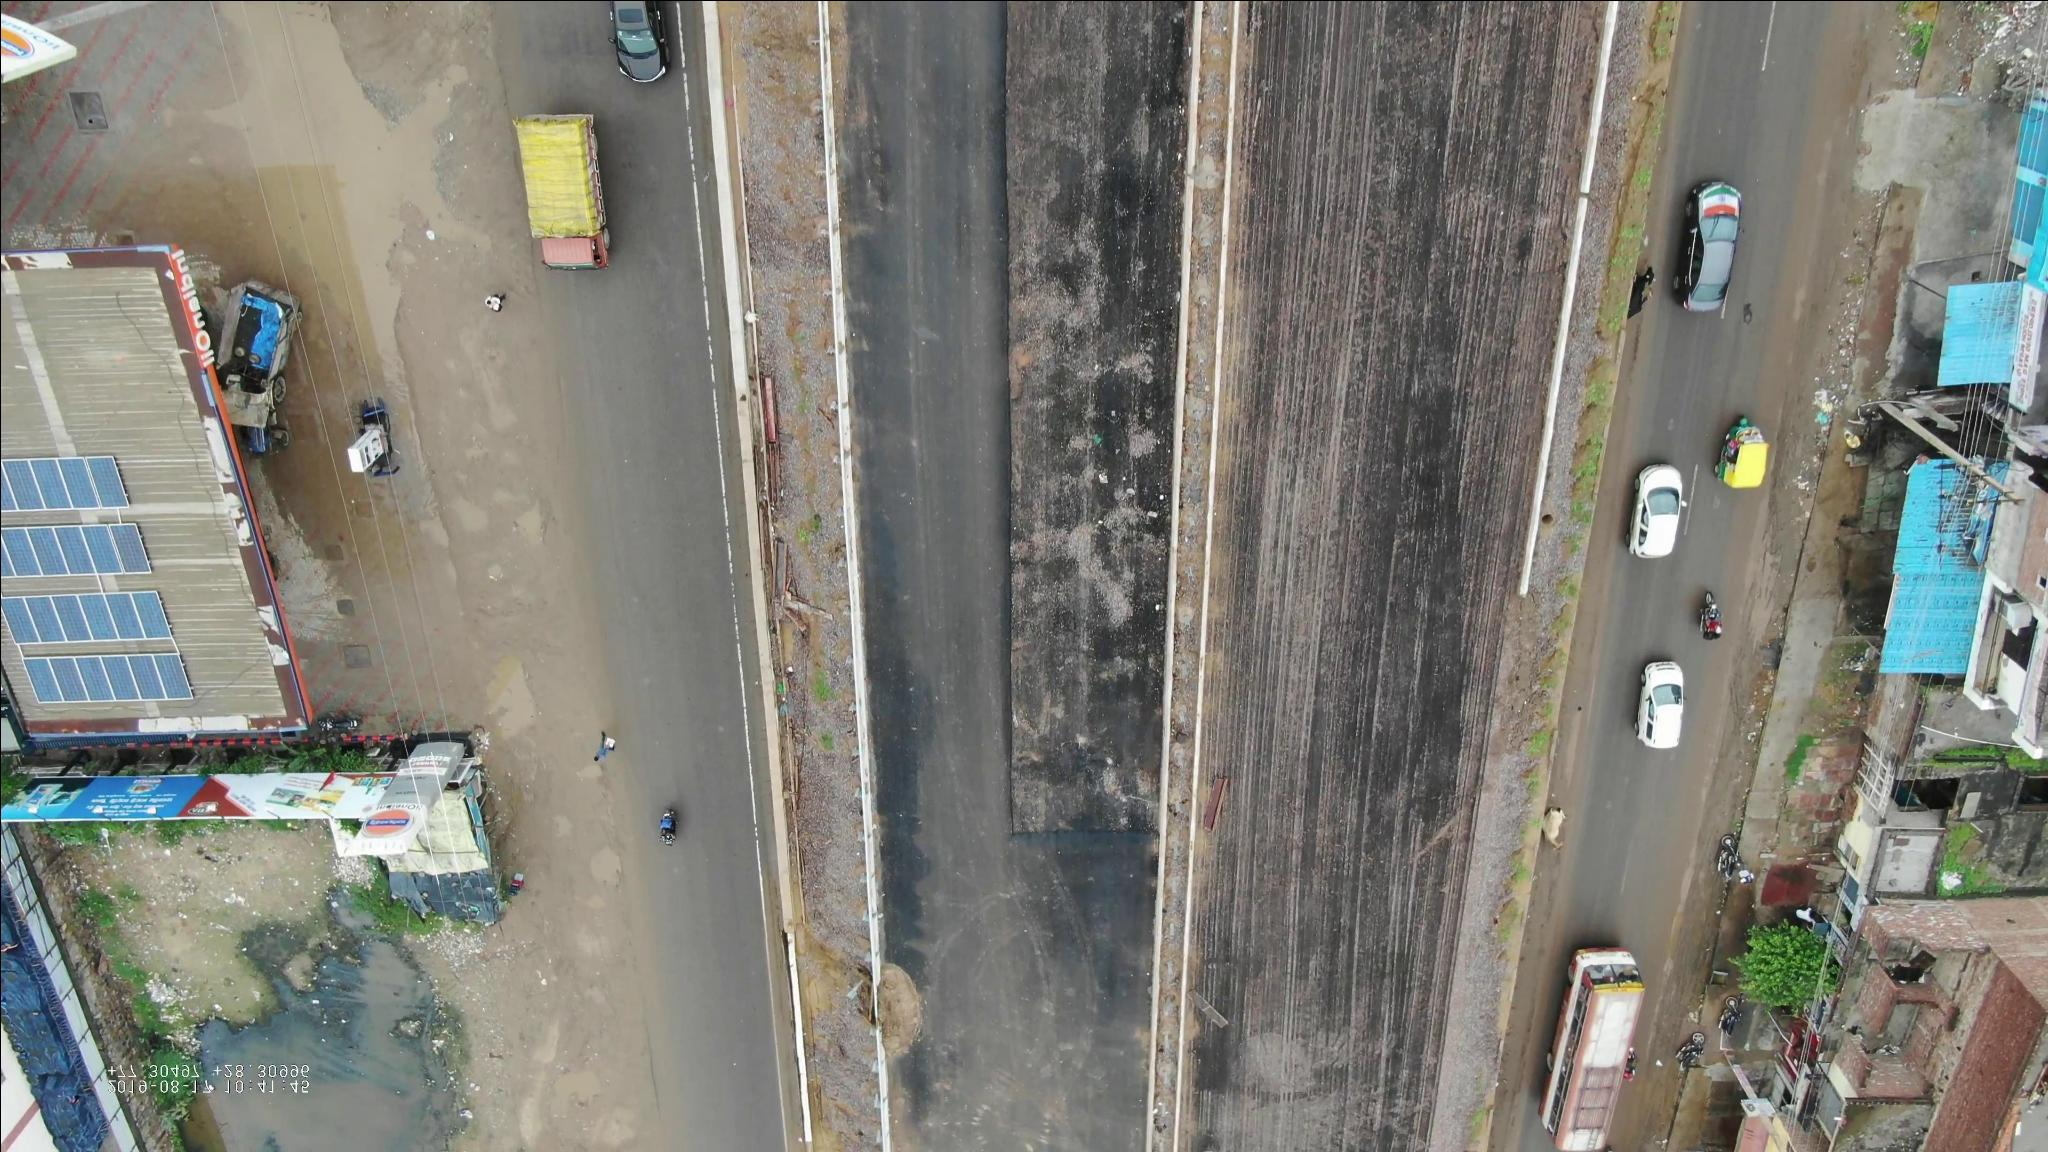Muddy_road: (391, 210, 501, 589)
